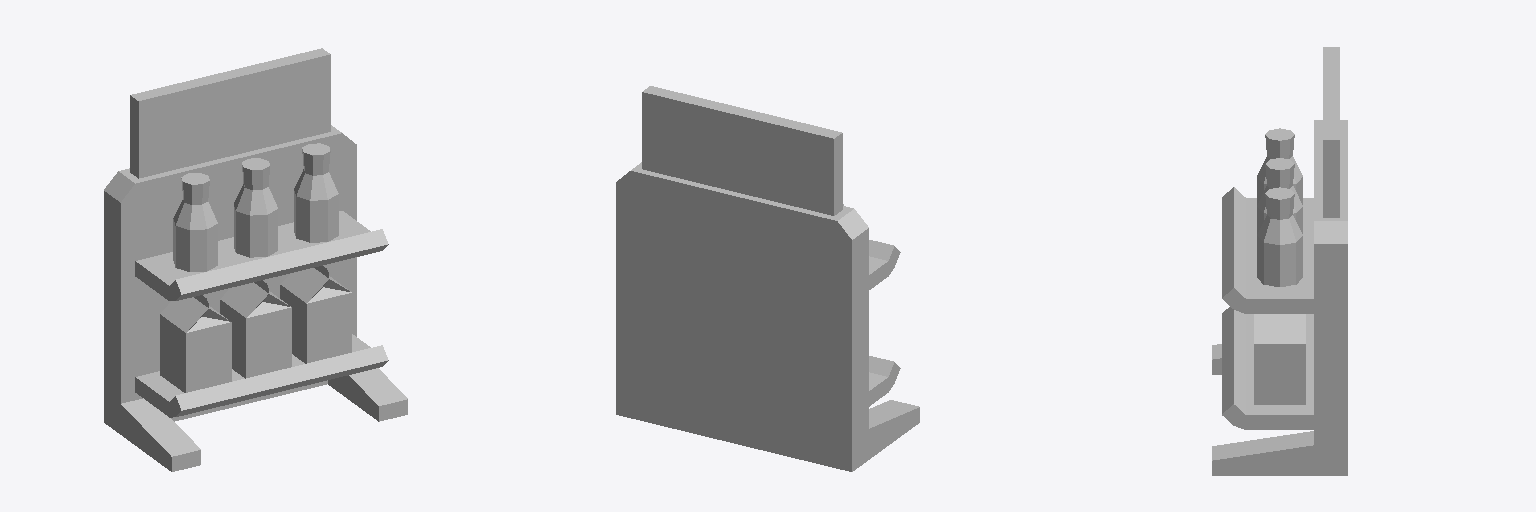
The model's file is shelf-end.obj.
The picture shows the model from 3 angles: view 1: azimuth 30°, elevation 25°; view 2: azimuth 150°, elevation 25°; view 3: azimuth 270°, elevation 25°; orthographic projection.
Parts seen in each view (by area): view 1: shelf-end, Group, carton, bottle; view 2: shelf-end, Group; view 3: shelf-end, bottle, carton, Group.
Part boxes in pixels (x1,y1,x2,y2): shelf-end: (104, 125, 407, 471); Group: (130, 48, 330, 178); carton: (160, 266, 351, 392); bottle: (173, 143, 338, 271); shelf-end: (616, 162, 919, 471); Group: (642, 86, 842, 215); shelf-end: (1212, 120, 1347, 475); bottle: (1257, 128, 1302, 286); carton: (1254, 314, 1305, 404); Group: (1323, 47, 1339, 217).
Size of the model in its own units: 0.8 by 1.05 by 0.4.